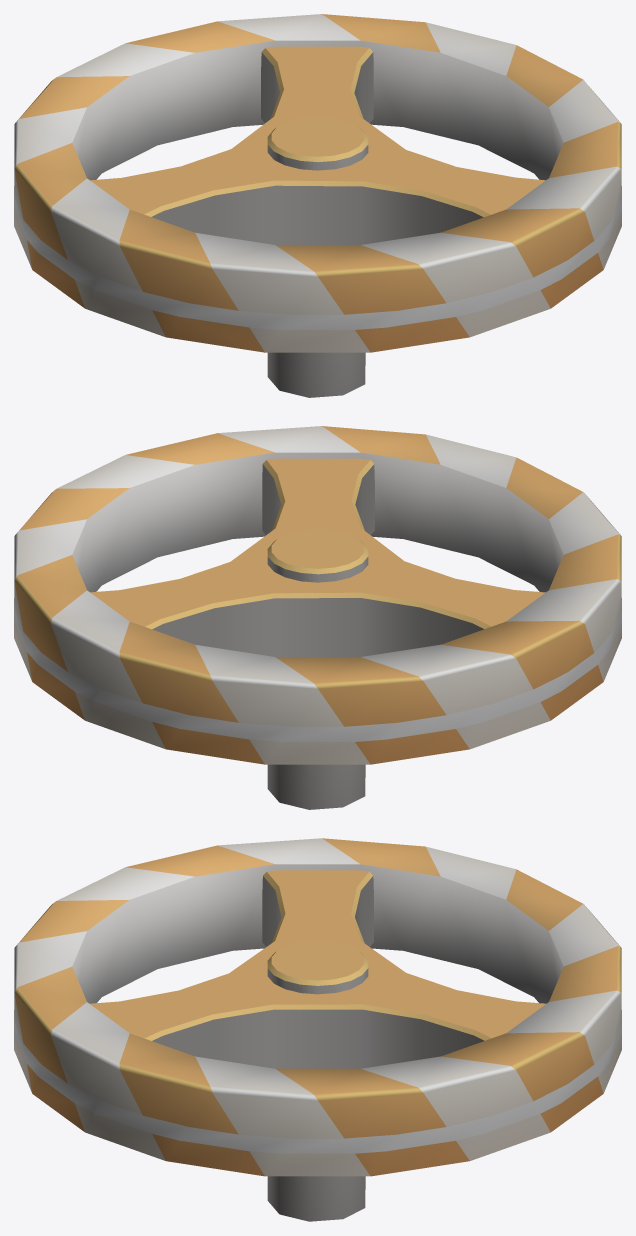
File: ChairliftWheel.glb
The picture shows the model from 3 angles, top to bottom: view 1: azimuth 30°, elevation 25°; view 2: azimuth 150°, elevation 25°; view 3: azimuth 270°, elevation 25°; orthographic projection.
Visible parts, largest first — view 1: ChairliftWheel; view 2: ChairliftWheel; view 3: ChairliftWheel.
Boxes of the visible parts, x1,y1,x2,y2 form: ChairliftWheel: (14, 14, 621, 397); ChairliftWheel: (14, 426, 621, 809); ChairliftWheel: (14, 838, 621, 1221).
Bounding box in the file's own units: 2.67 × 1.15 × 2.63.
